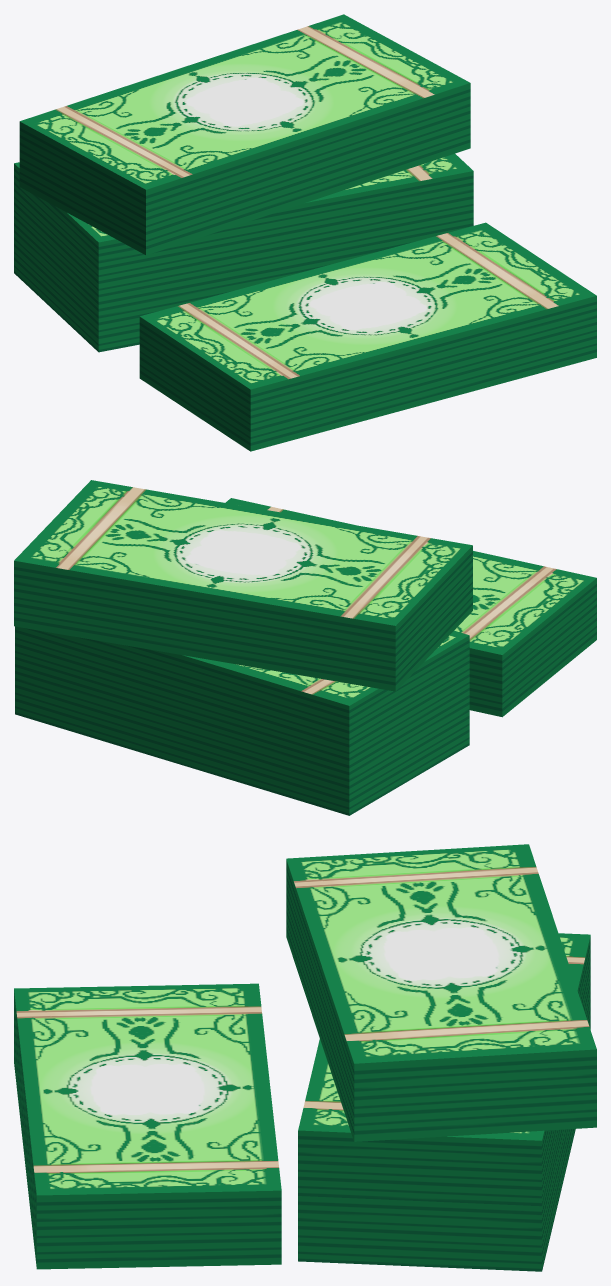
The model's file is Money_Lots.fbx.
3 views of the same model, one above another, from view 1: azimuth 30°, elevation 25°; view 2: azimuth 150°, elevation 25°; view 3: azimuth 270°, elevation 25° (orthographic). The views are drawn at different scales.
Visible parts, largest first — view 1: BigStack; view 2: BigStack; view 3: BigStack.
Boxes of the visible parts, box(x1,y1,x2,y2) form: BigStack: box(14, 14, 596, 451); BigStack: box(14, 480, 596, 815); BigStack: box(14, 844, 596, 1271).
Size of the model in its own units: 424 by 189 by 476.
1 material, 1 textured.
